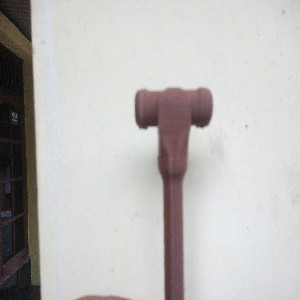palu: (134, 84, 214, 300)
